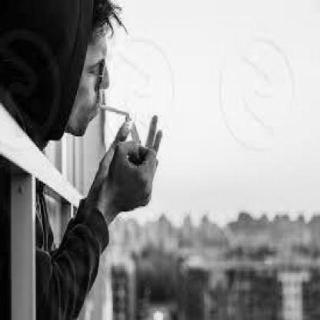Fire: (122, 99, 154, 132)
